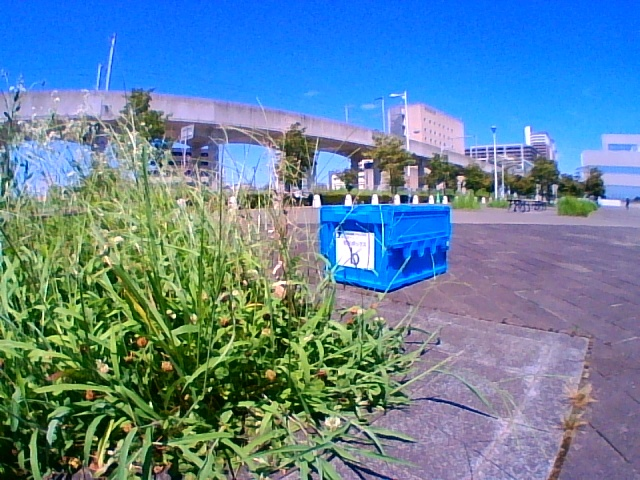blue_box: (323, 206, 443, 272)
tag_b: (337, 234, 372, 266)
